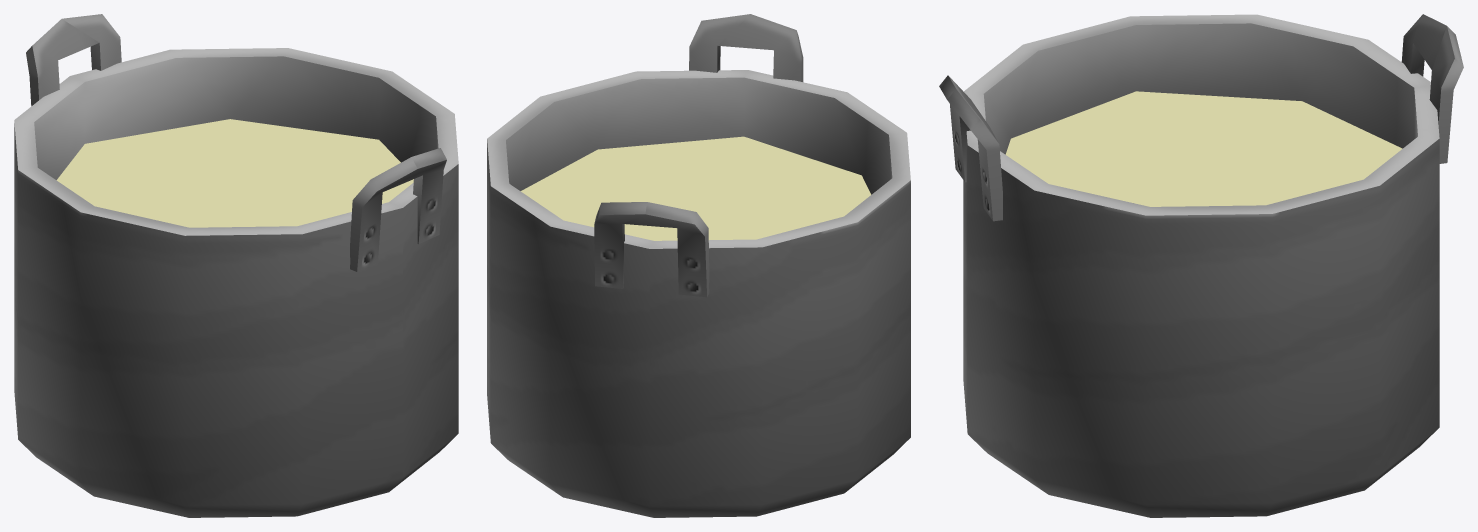
Rendered from C_DevPot.fbx.
The picture shows the model from 3 angles, left to right: view 1: azimuth 30°, elevation 25°; view 2: azimuth 150°, elevation 25°; view 3: azimuth 270°, elevation 25°; orthographic projection. The views are drawn at different scales.
Visible parts, largest first — view 1: CookingPotFull; view 2: CookingPotFull; view 3: CookingPotFull.
Part boxes in pixels (left/top/right/bottom): CookingPotFull: left=14, top=14, right=458, bottom=517; CookingPotFull: left=487, top=14, right=910, bottom=517; CookingPotFull: left=939, top=14, right=1463, bottom=517.
Bounding box in the file's own units: 40.49 × 34.59 × 44.63.
